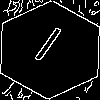I: (25, 25, 66, 72)
